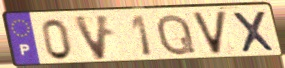0: (39, 17, 75, 62)
1: (130, 14, 153, 59)
Q: (155, 12, 198, 57)
V: (70, 13, 112, 63), (189, 9, 229, 57)
X: (229, 9, 278, 54)
